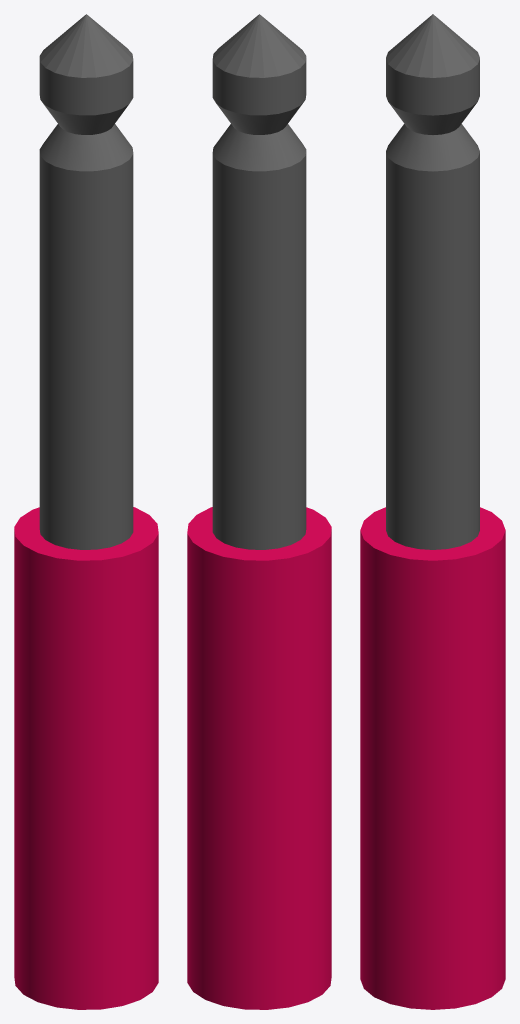
Rendered from jackplug.fbx.
3 renders of one model, left to right at view 1: azimuth 30°, elevation 25°; view 2: azimuth 150°, elevation 25°; view 3: azimuth 270°, elevation 25°, orthographic.
Parts seen in each view (by area): view 1: OperaterPlug; view 2: OperaterPlug; view 3: OperaterPlug.
Part boxes in pixels (x1,y1,x2,y2): OperaterPlug: (14, 14, 158, 1009); OperaterPlug: (187, 14, 331, 1009); OperaterPlug: (360, 14, 505, 1009).
Bounding box in the file's own units: 2.35 × 17.2 × 2.35.
